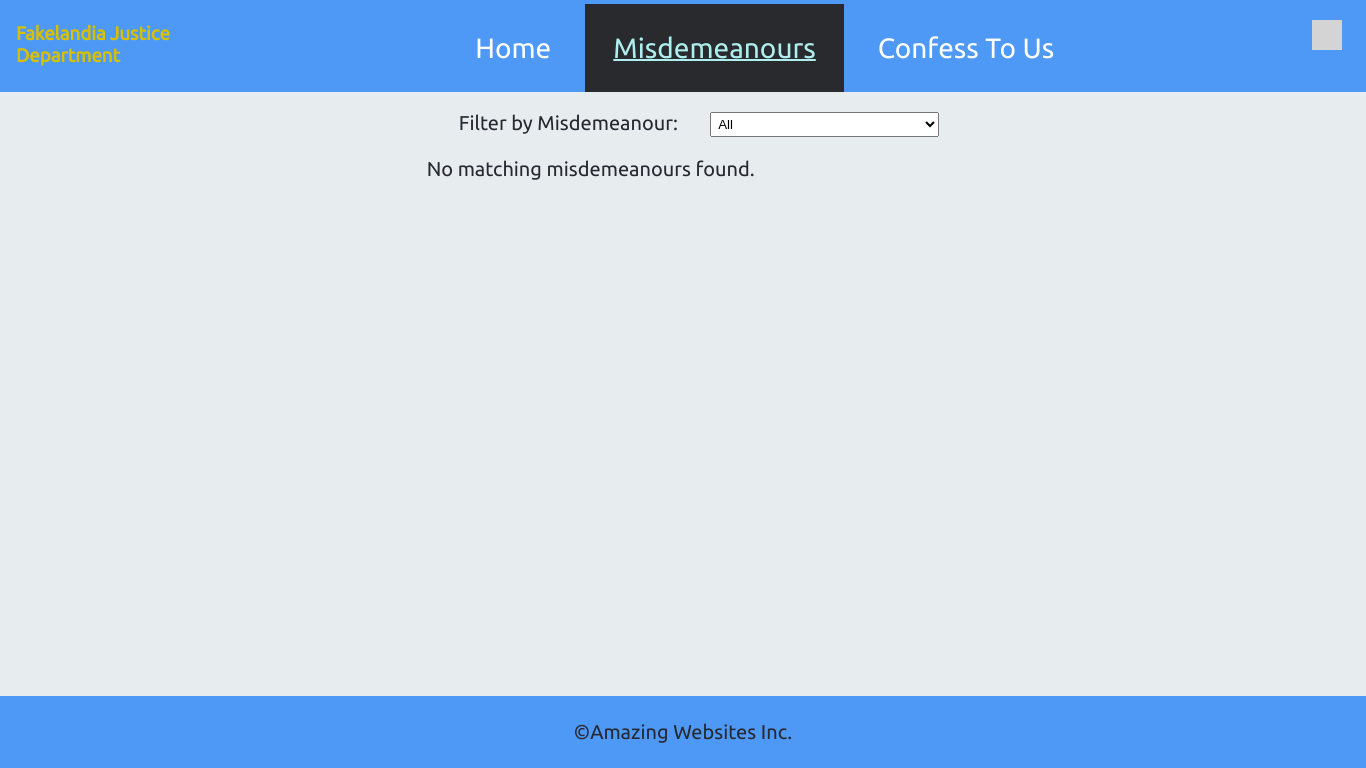
Test: <Router /> › navigates to the confession page when confession is clicked
Click the link "Confess To Us": (966, 48) [878,32,1054,63]
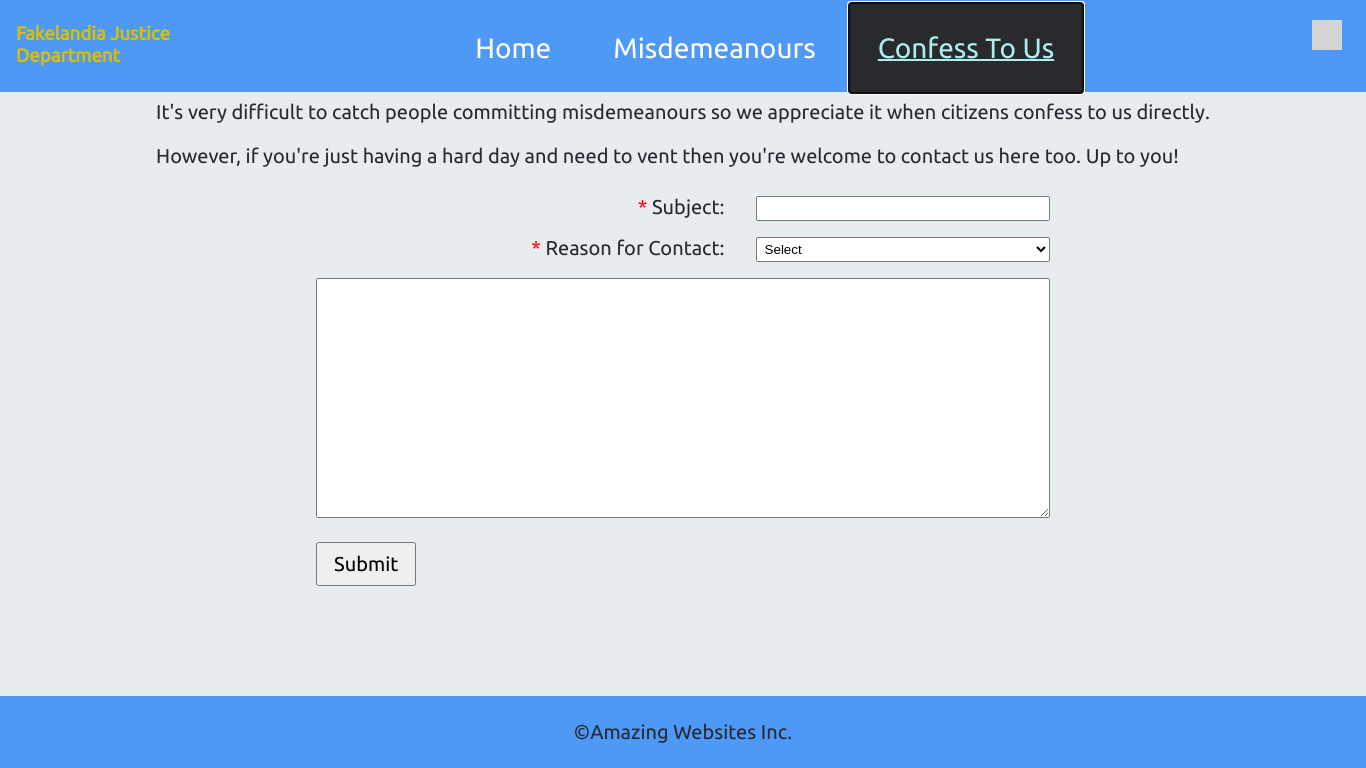
Expected: the text "Subject:" is shown, [652,195,724,218]
